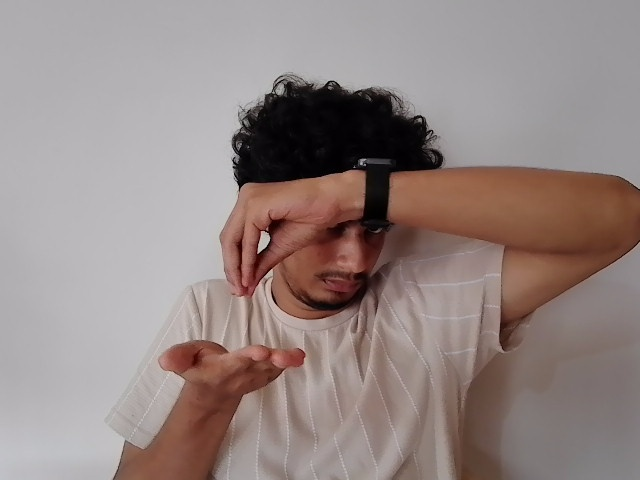learn: (158, 178, 331, 371)
